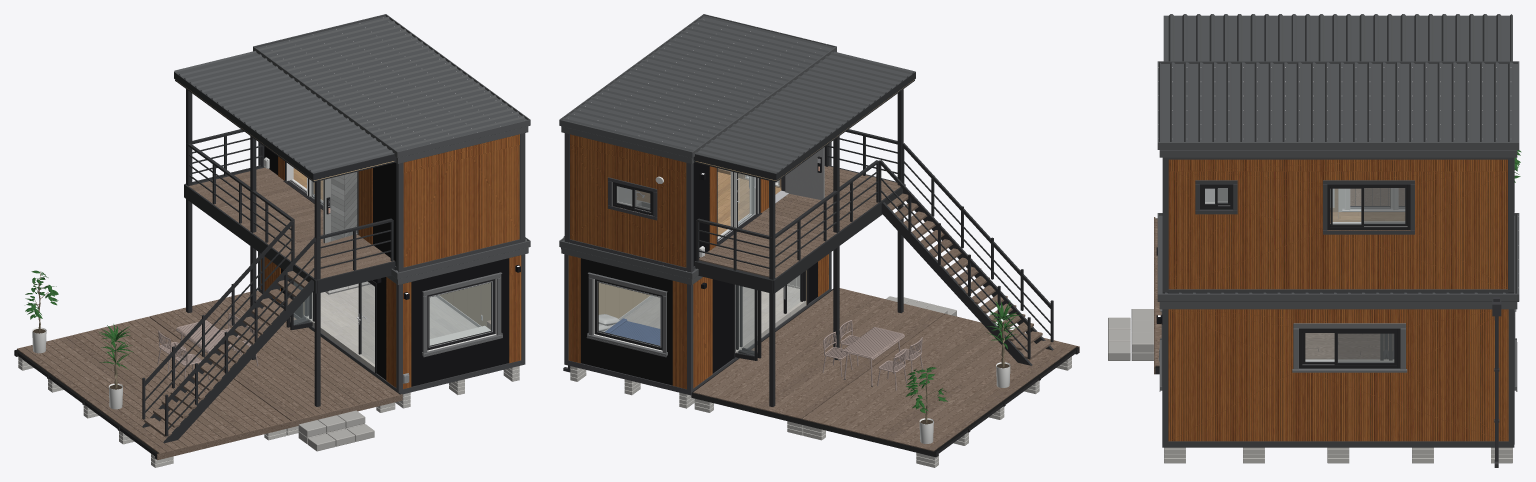
The model's file is twin-10-2f.glb.
The picture shows the model from 3 angles, left to right: view 1: azimuth 30°, elevation 25°; view 2: azimuth 150°, elevation 25°; view 3: azimuth 270°, elevation 25°; orthographic projection. The views are drawn at different scales.
Parts seen in each view (by area): view 1: 지붕_TD_RoofSheetSilver, TD_DeckEmboss, 2층_TD_WoodSiding, 계단_스틸, 2층_TD_DeckEmboss, 2층_계단_스틸, TD_BlackSiding, TD_FloorGray, TD_GlassFix, TD_WoodSiding, TD_TrimGray, 2층_TD_TrimGray (+15 smaller); view 2: 지붕_TD_RoofSheetSilver, TD_DeckEmboss, 계단_스틸, 2층_TD_WoodSiding, 2층_TD_DeckEmboss, TD_BlackSiding, 2층_계단_스틸, TD_WoodSiding, TD_GlassFix, TD_FurnTaupe, TD_FloorGray, 2층_TD_TrimGray (+20 smaller); view 3: 지붕_TD_RoofSheetSilver, TD_WoodSiding, 2층_TD_WoodSiding, 2층_TD_RoofSheetSilver, 2층_TD_TrimGray, 지붕_TD_WoodSiding, TD_TrimGray, 2층_TD_GlassFix, TD_DeckEmboss, TD_GlassFix, TD_WinSurround, TD_StepBlock (+10 smaller).
Part boxes in pixels (x1,y1,x2,y2): 지붕_TD_RoofSheetSilver: (174,14,530,173); TD_DeckEmboss: (17,290,402,460); 2층_TD_WoodSiding: (278,145,519,267); 계단_스틸: (142,89,320,443); 2층_TD_DeckEmboss: (189,167,394,305); 2층_계단_스틸: (184,129,395,293); TD_BlackSiding: (281,258,509,386); TD_FloorGray: (303,284,477,371); TD_GlassFix: (294,281,490,363); TD_WoodSiding: (261,255,521,388); TD_TrimGray: (258,252,525,394); 2층_TD_TrimGray: (258,133,525,272); 지붕_TD_RoofSheetSilver: (559,14,915,173); TD_DeckEmboss: (693,220,1079,451); 계단_스틸: (769,89,1053,406); 2층_TD_WoodSiding: (570,145,768,267); 2층_TD_DeckEmboss: (699,166,927,277); TD_BlackSiding: (580,258,817,385); 2층_계단_스틸: (694,129,905,293); TD_WoodSiding: (568,254,828,389); TD_GlassFix: (599,275,800,355); TD_FurnTaupe: (822,320,923,390); TD_FloorGray: (624,285,806,352); 2층_TD_TrimGray: (564,133,831,272); 지붕_TD_RoofSheetSilver: (1157,14,1519,157); TD_WoodSiding: (1168,309,1508,441); 2층_TD_WoodSiding: (1168,171,1507,289); 2층_TD_RoofSheetSilver: (1157,213,1519,309); 2층_TD_TrimGray: (1162,157,1514,293); 지붕_TD_WoodSiding: (1168,159,1507,171); TD_TrimGray: (1162,309,1514,447); 2층_TD_GlassFix: (1205,188,1404,224); TD_DeckEmboss: (1154,217,1388,374); TD_GlassFix: (1305,333,1393,362); TD_WinSurround: (1159,309,1517,391); TD_StepBlock: (1108,309,1153,360).
Bounding box in the file's own units: 9.75 × 6.39 × 7.35.
105 materials, 15 textured.
